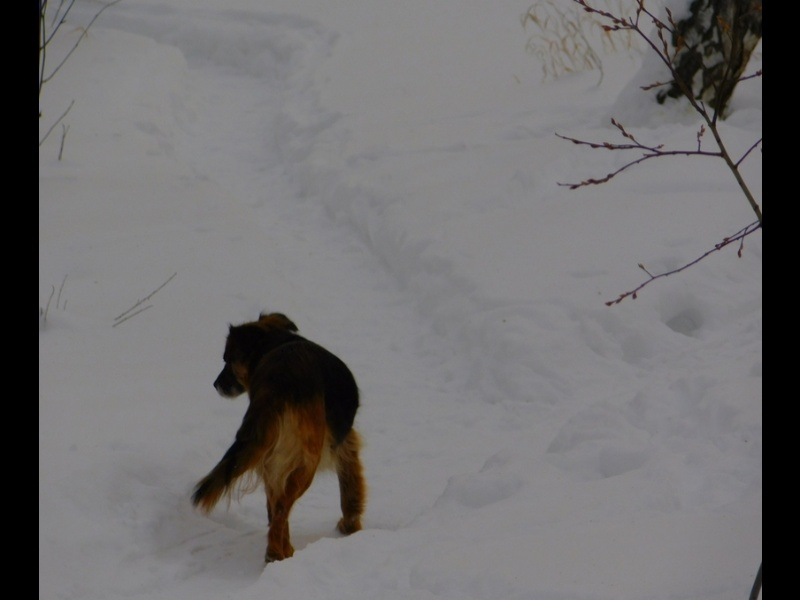dog: (189, 306, 371, 570)
